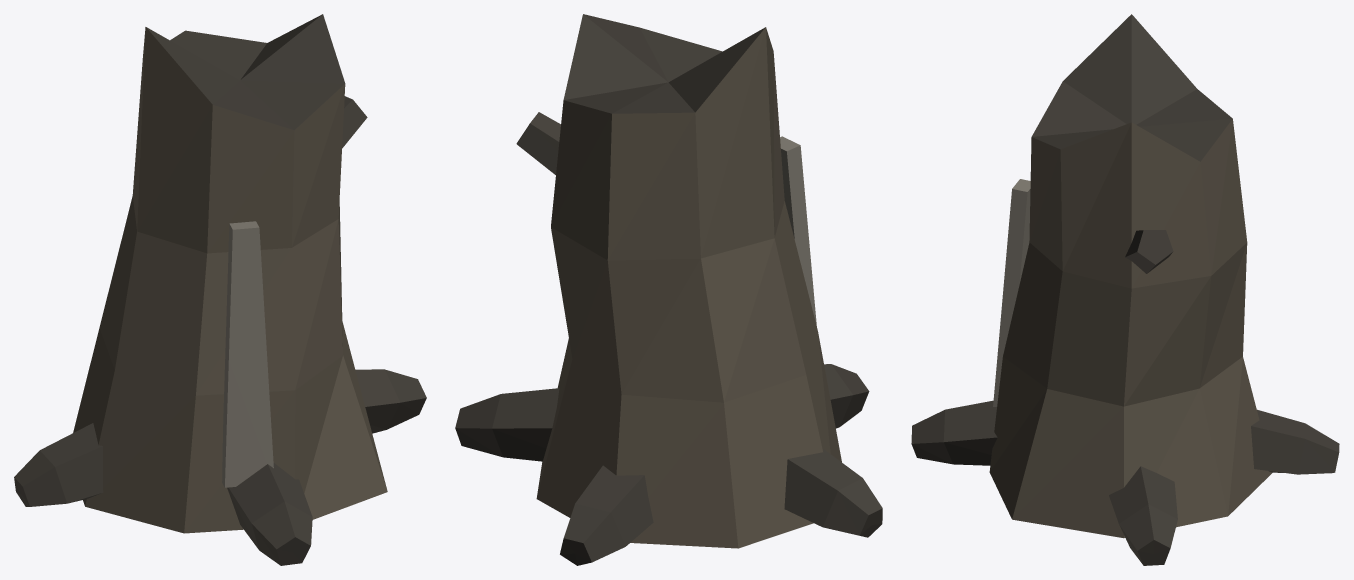
File: stump_burned_1.obj
3 views of the same model, side by side, from view 1: azimuth 30°, elevation 25°; view 2: azimuth 150°, elevation 25°; view 3: azimuth 270°, elevation 25° (orthographic). The views are drawn at different scales.
Parts seen in each view (by area): view 1: stump_burned_1; view 2: stump_burned_1; view 3: stump_burned_1.
Boxes of the visible parts, box(x1,y1,x2,y2) form: stump_burned_1: box(14, 14, 426, 565); stump_burned_1: box(455, 14, 882, 565); stump_burned_1: box(911, 14, 1339, 565).
Bounding box in the file's own units: 0.548 × 0.6 × 0.5467.
